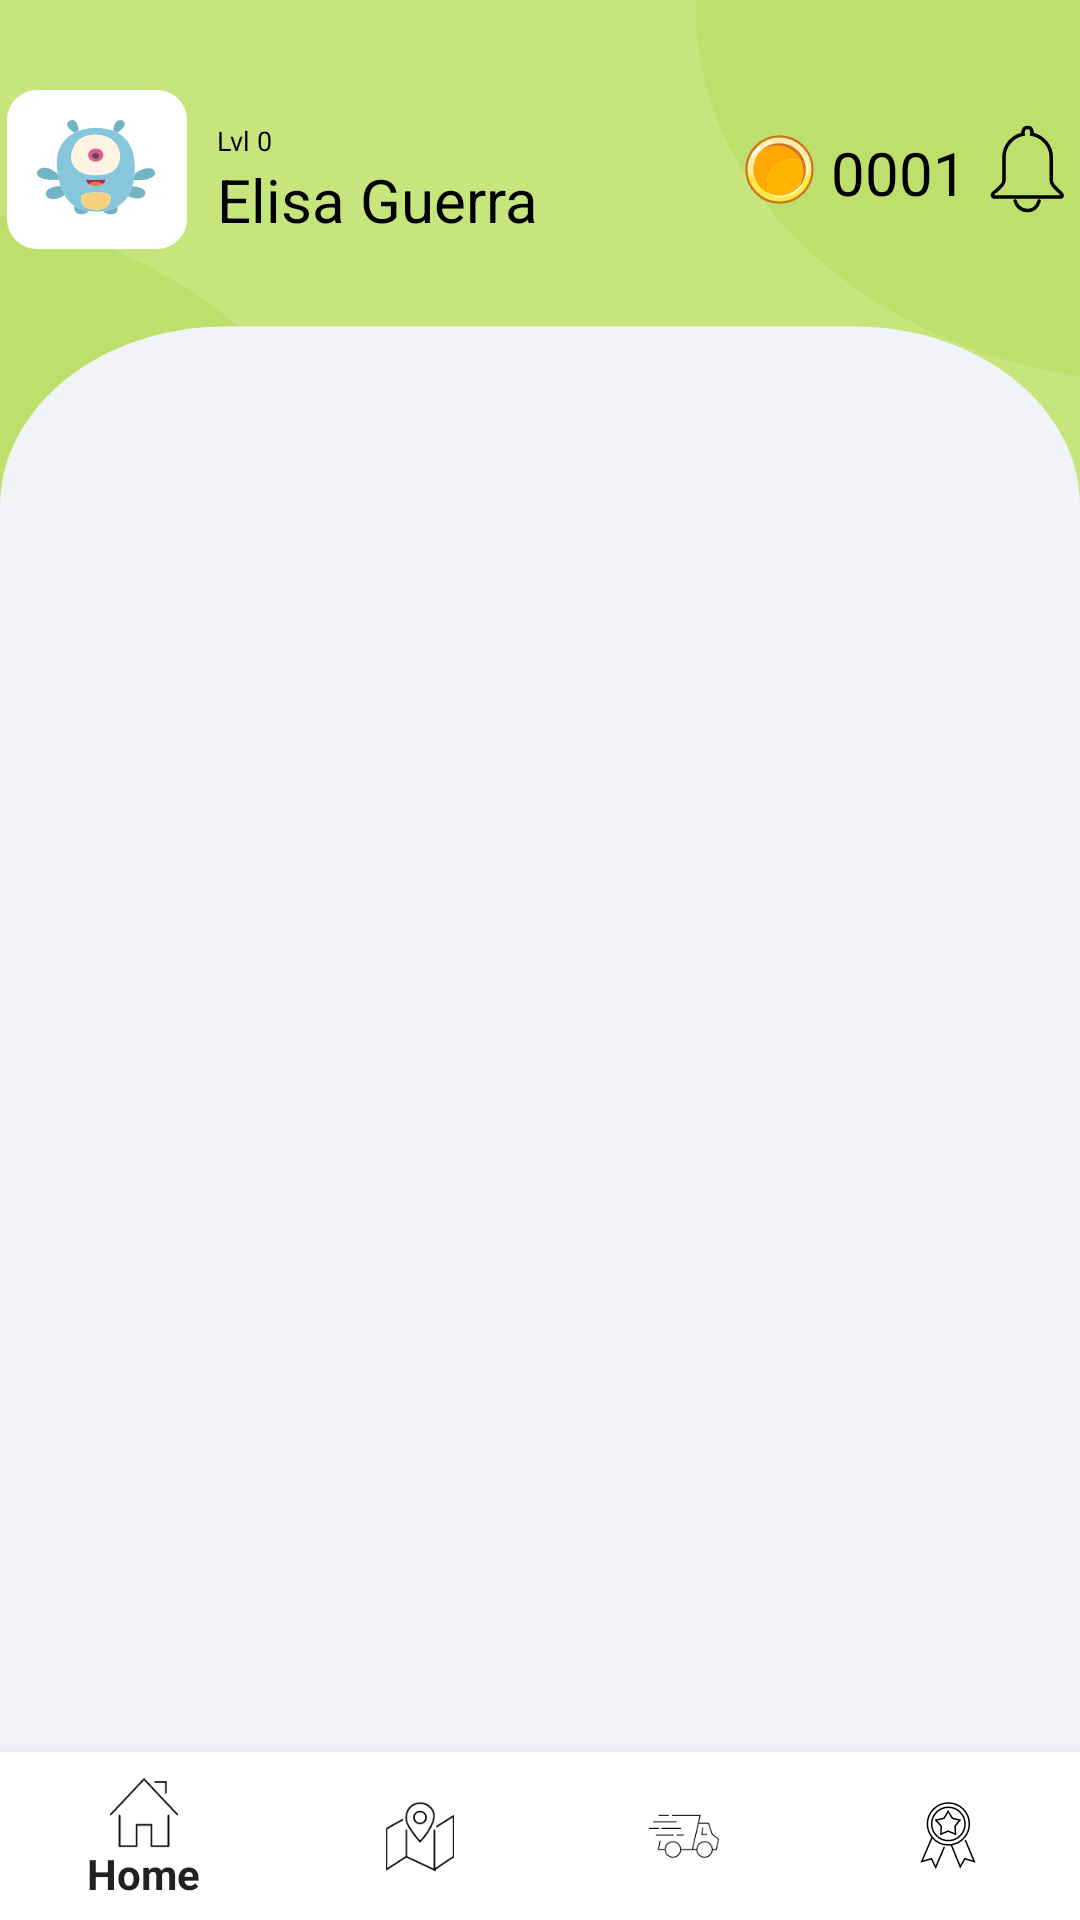

Screen size 1080 x 1920. Icon name, then its box in pixels as (x1, y1, x2, y2):
coins: (745, 135, 814, 204)
